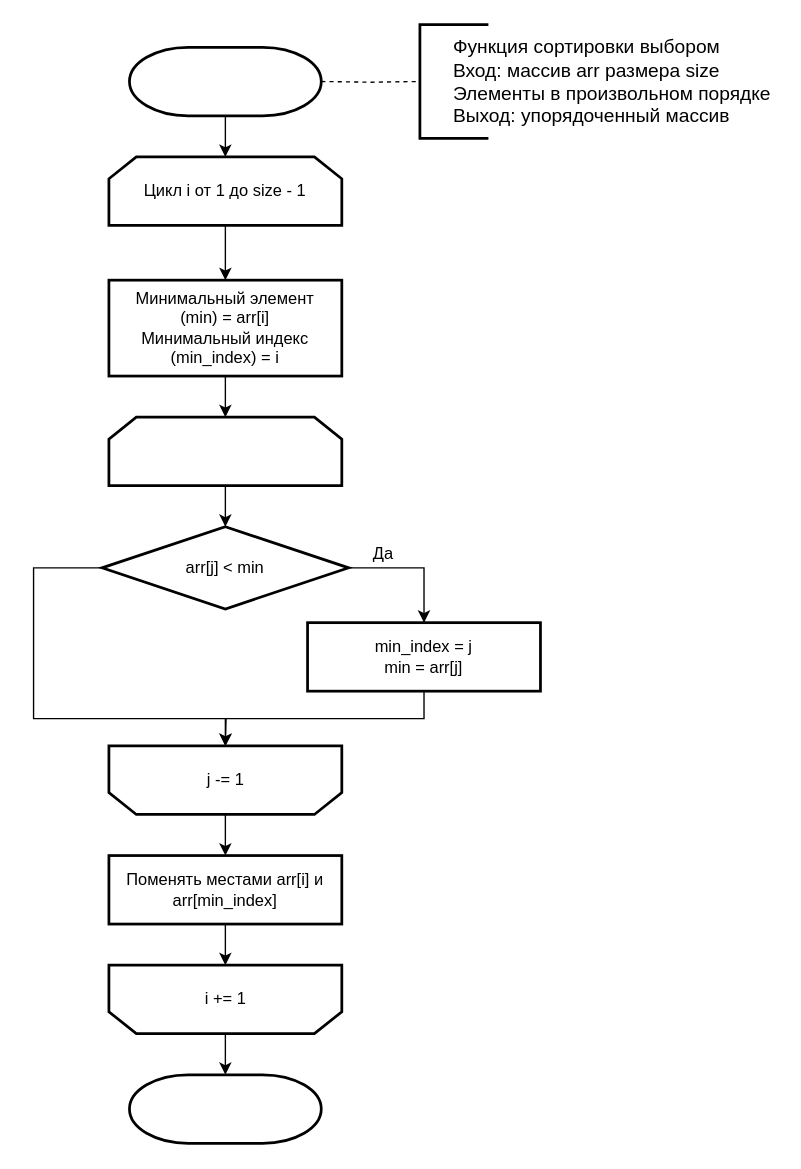
The diagram is 801 pixels wide and 1169 high, and some of its shapes have lost their labels. The centre of each missing label's shape, as x and y in pixels:
"Конец" belongs at point (224, 1108).
"Начало" belongs at point (224, 80).
"Цикл j от i + 1 до size" belongs at point (224, 450).
